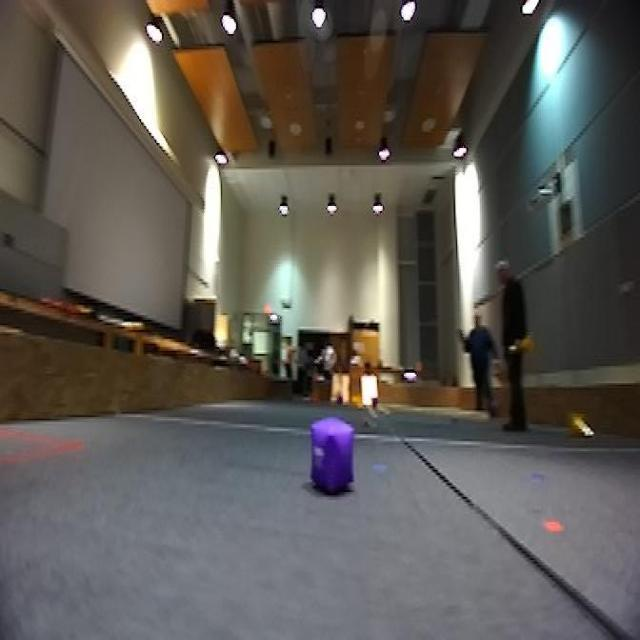frc_cone: (568, 407, 597, 439), (514, 334, 532, 354), (351, 392, 366, 408)
frc_cube: (310, 419, 356, 497), (371, 393, 385, 412), (334, 393, 346, 410)
